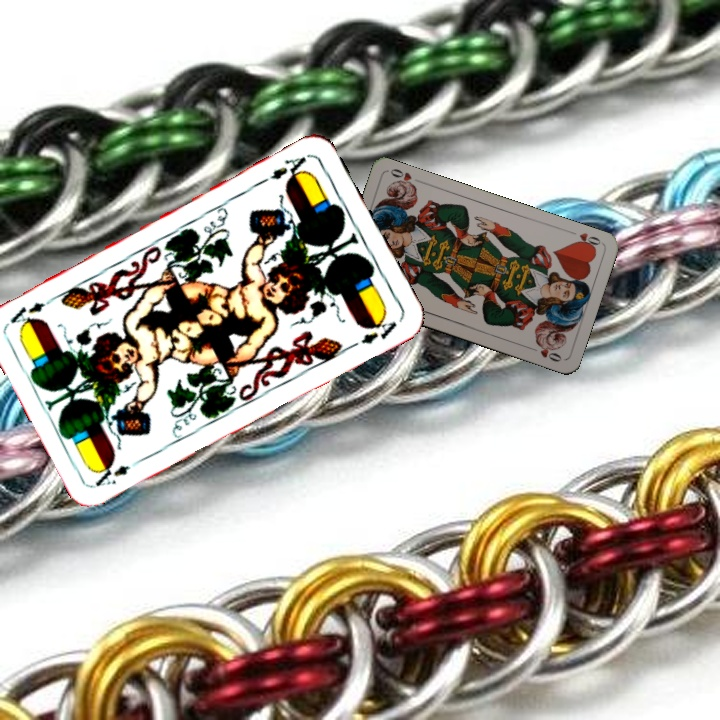EA: (91, 454, 146, 489), (266, 150, 312, 184)
HO: (564, 227, 604, 252)
